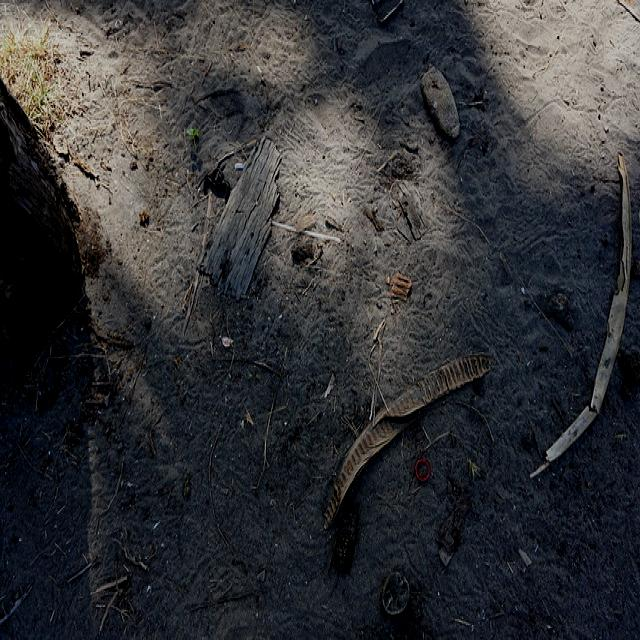Recycle: (270, 216, 346, 246)
Trash: (381, 574, 412, 615), (414, 458, 431, 483), (185, 124, 201, 142), (233, 160, 246, 172)
